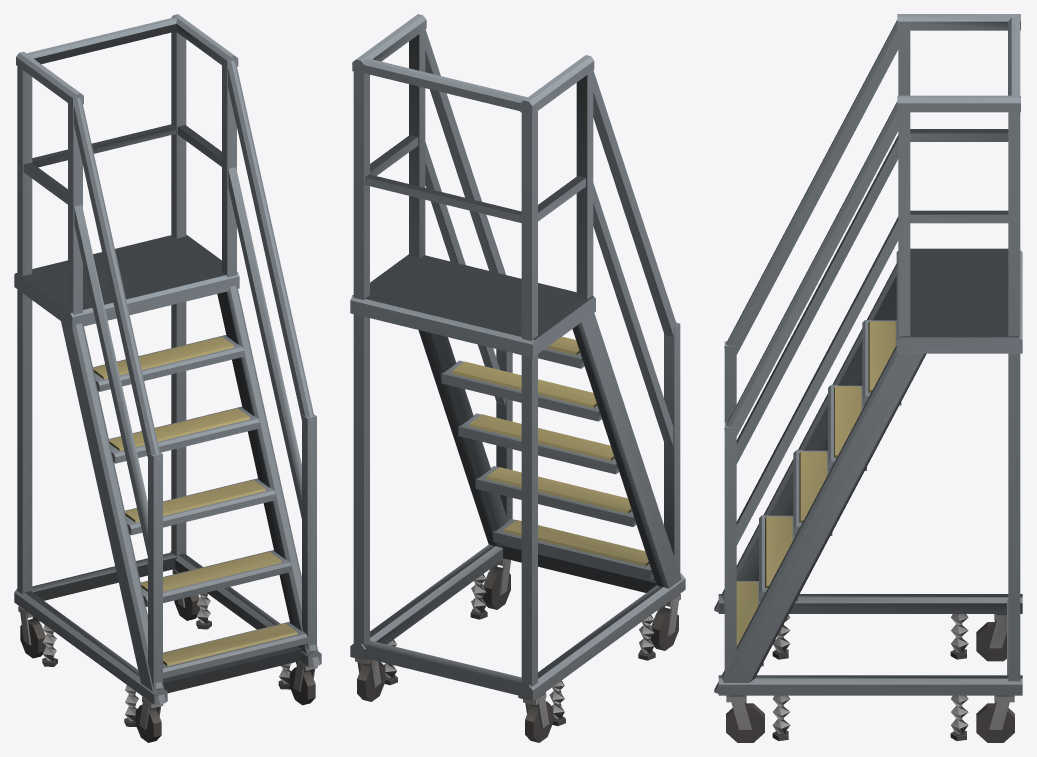
Rendered from ladder.glb.
3 views of the same model, side by side, from view 1: azimuth 30°, elevation 25°; view 2: azimuth 150°, elevation 25°; view 3: azimuth 270°, elevation 25° (orthographic). The views are drawn at different scales.
Parts seen in each view (by area): view 1: ladder; view 2: ladder; view 3: ladder.
Boxes of the visible parts, x1,y1,x2,y2 form: ladder: (14, 14, 321, 742); ladder: (350, 14, 685, 742); ladder: (714, 14, 1022, 742).
Bounding box in the file's own units: 0.704 × 2.37 × 1.03.
